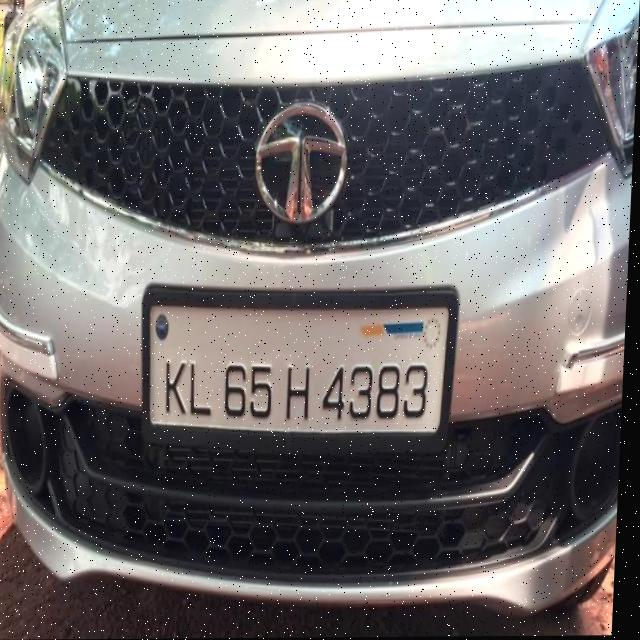plate: (139, 284, 462, 450)
